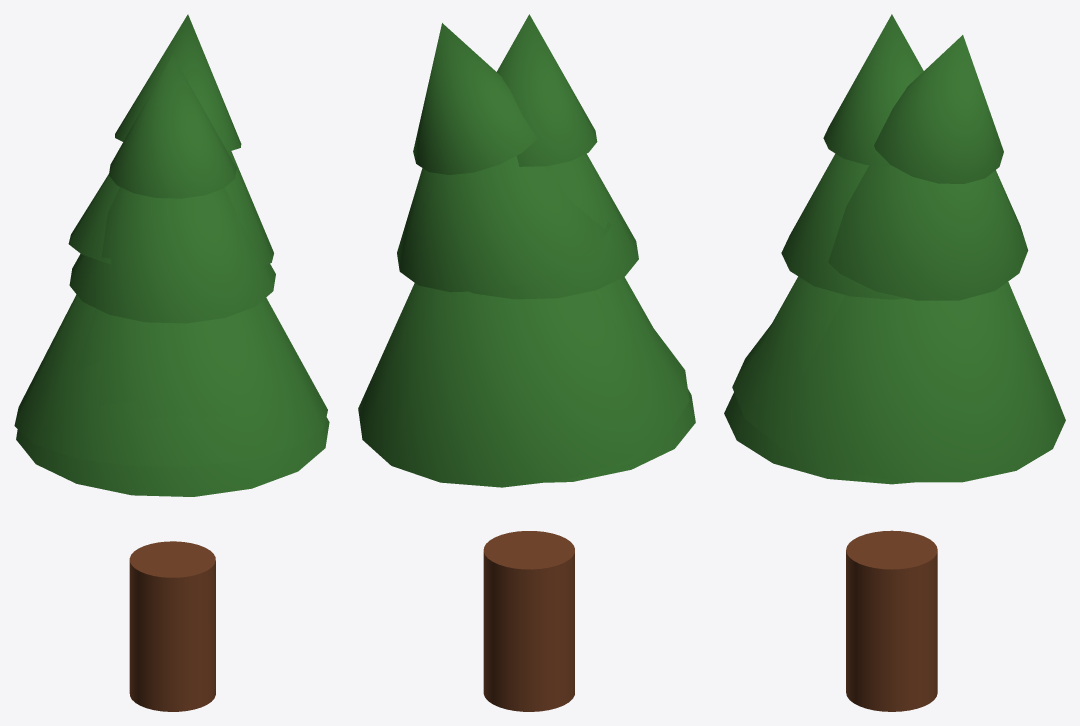
Rendered from VampireTree.fbx.
The picture shows the model from 3 angles, left to right: view 1: azimuth 30°, elevation 25°; view 2: azimuth 150°, elevation 25°; view 3: azimuth 270°, elevation 25°; orthographic projection. The views are drawn at different scales.
Parts seen in each view (by area): view 1: Cone.002, Cone.006, Cone.003, Cylinder, Cone.004, Cone.008, Cone.007; view 2: Cone.006, Cone.007, Cylinder, Cone.008, Cone.004, Cone.003, Cone.002; view 3: Cone.006, Cone.007, Cylinder, Cone.008, Cone.004, Cone.002, Cone.003.
Part boxes in pixels (x1,y1,x2,y2): Cone.002: (16, 305, 329, 496); Cone.006: (14, 294, 327, 466); Cone.003: (69, 187, 275, 323); Cylinder: (129, 541, 215, 711); Cone.004: (109, 55, 236, 198); Cone.008: (115, 14, 241, 151); Cone.007: (68, 151, 273, 266); Cone.006: (358, 283, 689, 487); Cone.007: (397, 156, 611, 292); Cylinder: (483, 531, 574, 711); Cone.008: (413, 23, 537, 174); Cone.004: (497, 14, 597, 166); Cone.003: (469, 154, 638, 299); Cone.002: (546, 277, 695, 482); Cone.006: (732, 282, 1065, 482); Cone.007: (828, 164, 1028, 300); Cylinder: (846, 530, 937, 711); Cone.008: (874, 35, 1003, 183); Cone.004: (823, 14, 923, 166); Cone.002: (724, 276, 913, 484); Cone.003: (781, 153, 906, 299).
Size of the model in its own units: 1.03 by 2.29 by 1.04.
